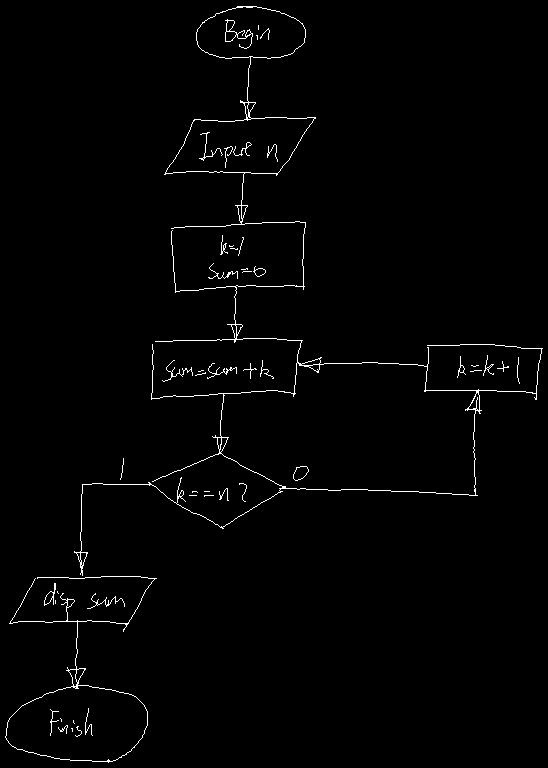arrow: (279, 389, 481, 495), (74, 483, 150, 575), (297, 357, 426, 372), (66, 620, 85, 688), (240, 56, 255, 120), (212, 394, 228, 453), (227, 287, 242, 342), (235, 172, 247, 224)
data: (164, 117, 315, 175), (9, 576, 156, 631)
decision: (148, 452, 287, 528)
process: (171, 221, 305, 292), (151, 338, 302, 399), (424, 344, 542, 399)
terminator: (5, 685, 147, 762), (196, 6, 305, 58)
text: (44, 583, 124, 621), (199, 132, 277, 167), (208, 235, 265, 278), (162, 360, 273, 381), (457, 355, 519, 383), (177, 477, 246, 502), (225, 19, 269, 48), (50, 708, 92, 736), (293, 466, 308, 480), (120, 458, 123, 479)
